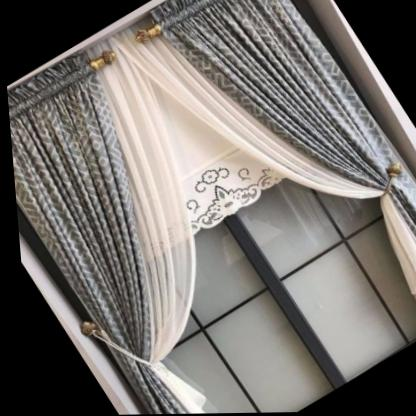Curtains: (6, 0, 416, 415)
